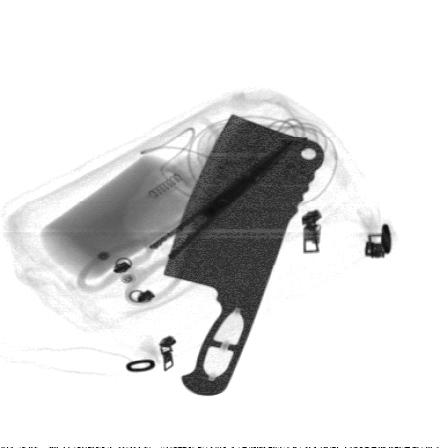Knife: (163, 113, 326, 396)
Scissors: (77, 139, 291, 305)
